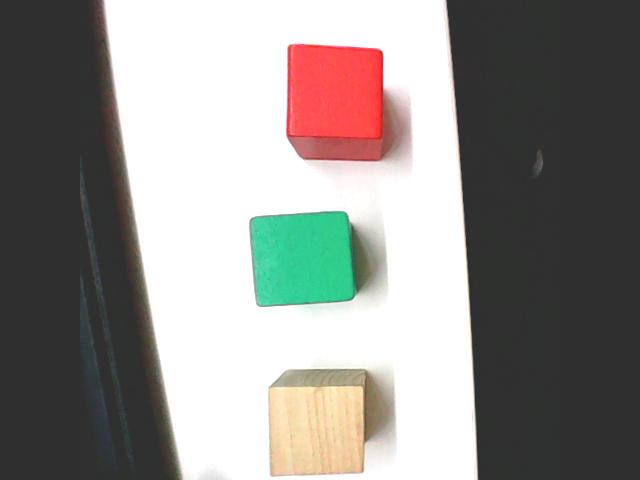green_box: (244, 208, 359, 310)
raw_box: (263, 365, 369, 479)
red_box: (280, 40, 388, 164)
